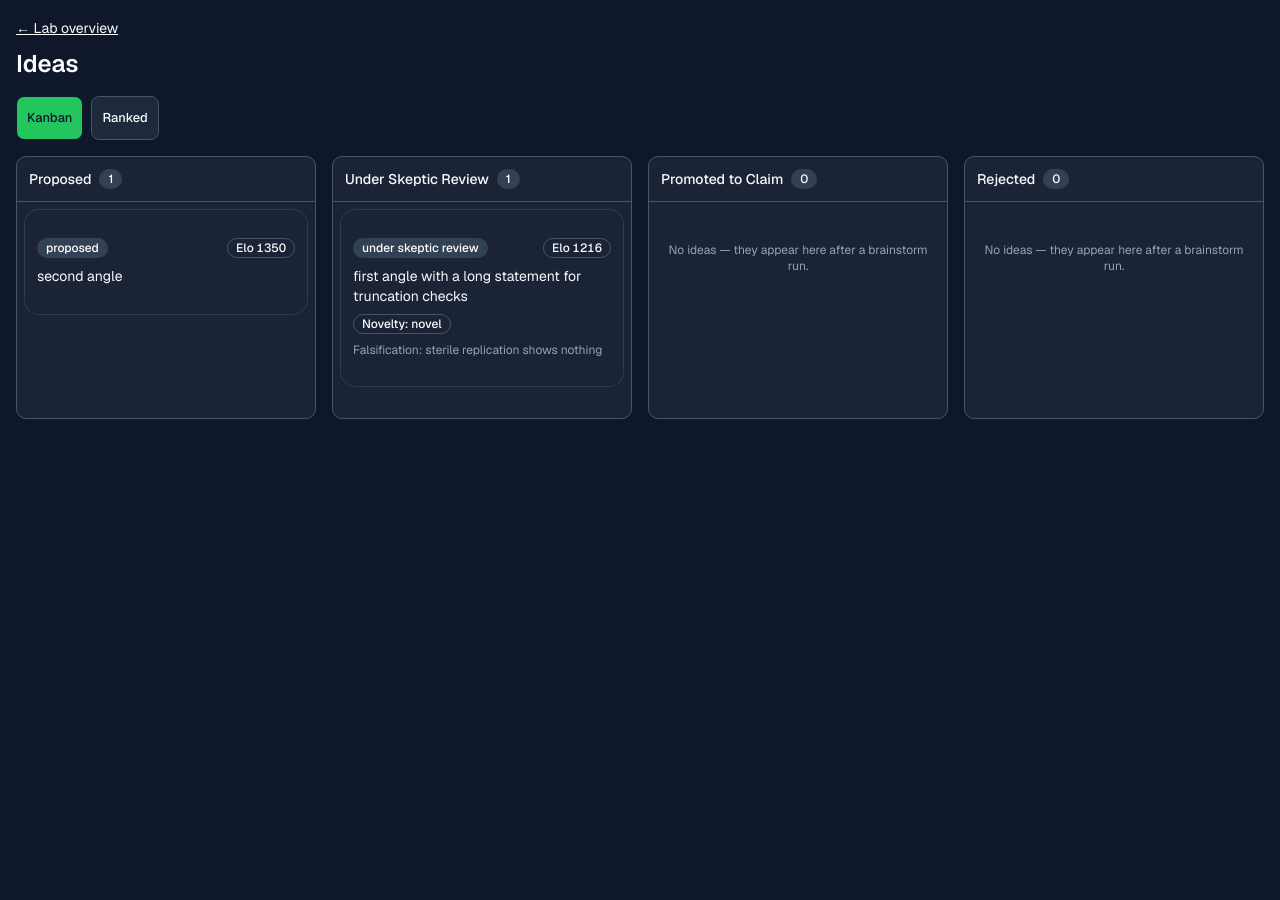
Test: IdeasPage › opens the detail dialog with keyboard and promotes
Press Enter in the button with aria-label "Open idea I-001", box left=341, top=210, right=623, bottom=386
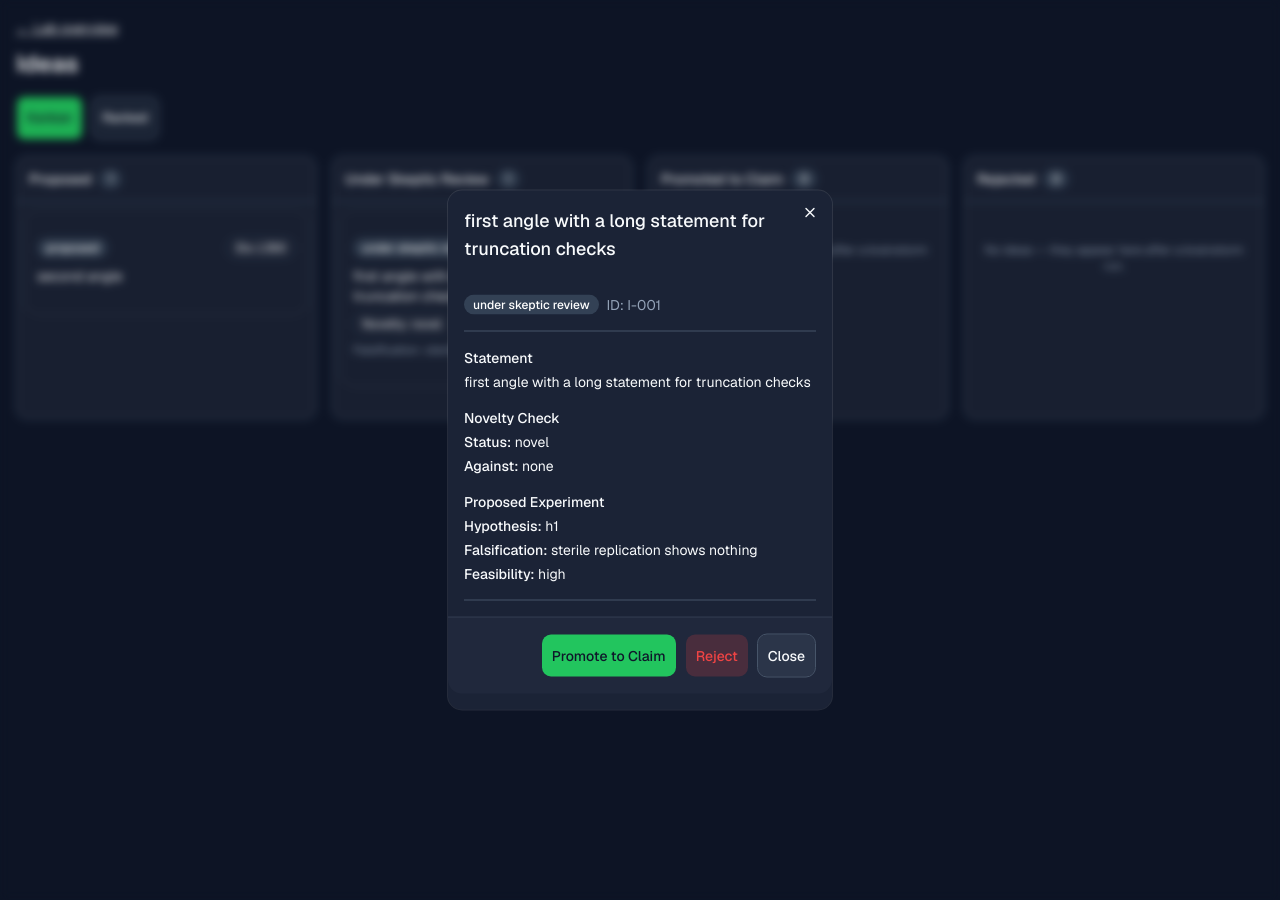
Expected: the text "Falsification:" is shown, left=464, top=540, right=547, bottom=558
Click the button "Promote to Claim" at (609, 656), box left=541, top=634, right=677, bottom=678
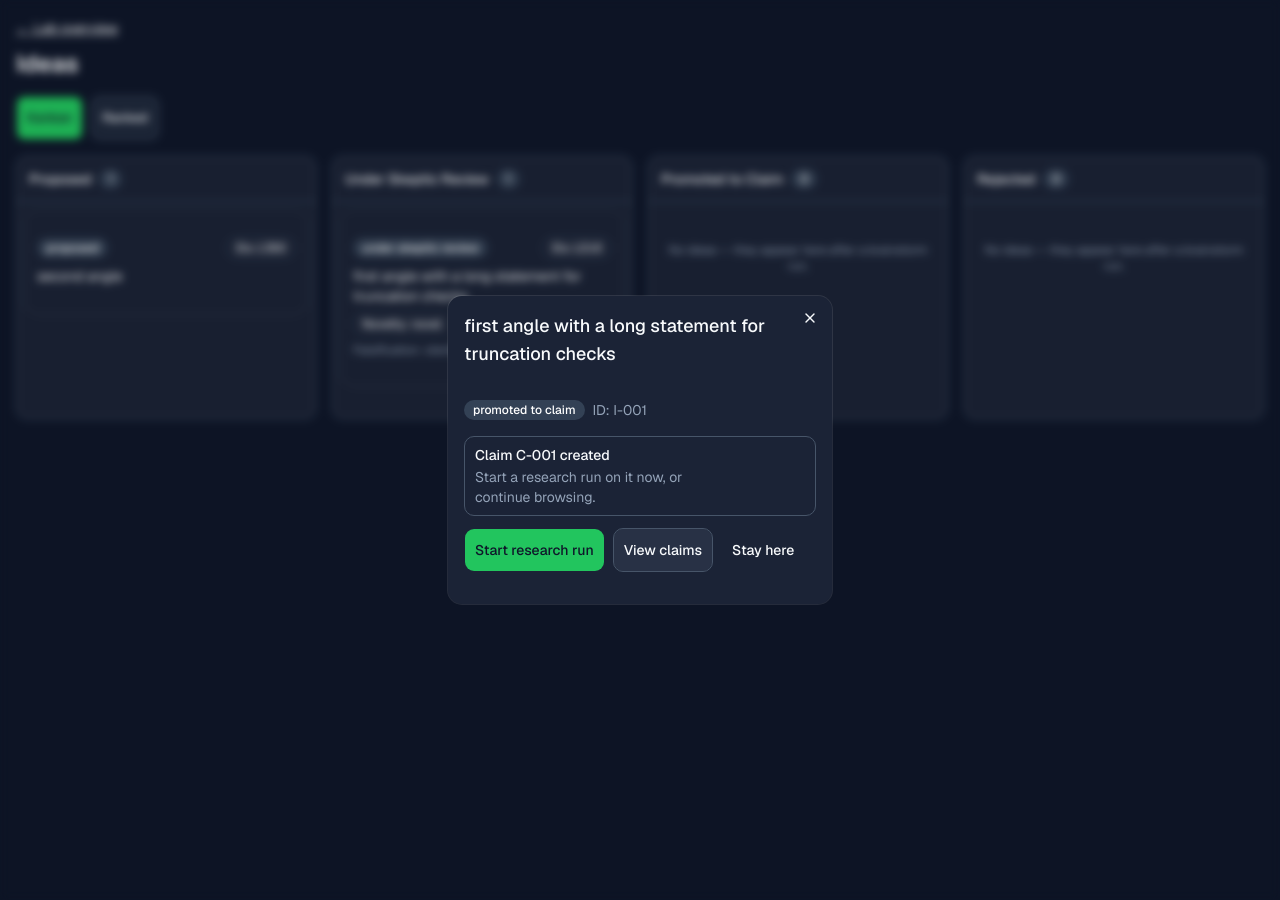
Expected: the text "Claim C-001 created" is shown, left=475, top=446, right=610, bottom=464
